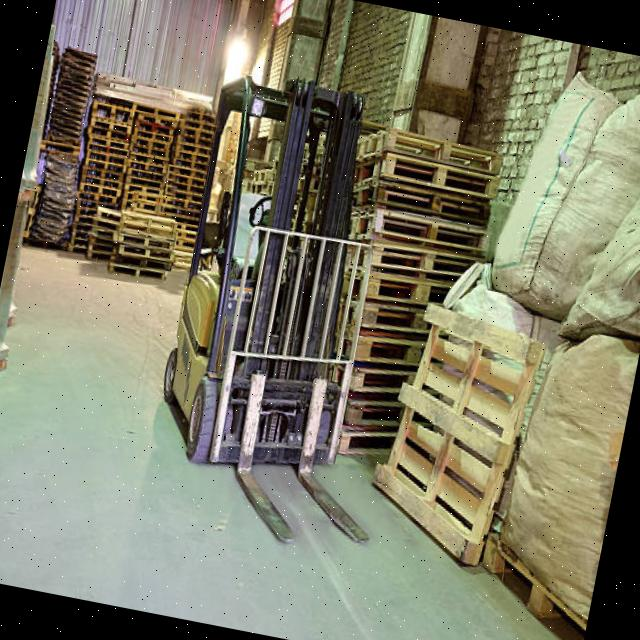Wooden-Pallets: (376, 306, 547, 576), (351, 127, 507, 183), (116, 207, 181, 242), (134, 103, 182, 131)
